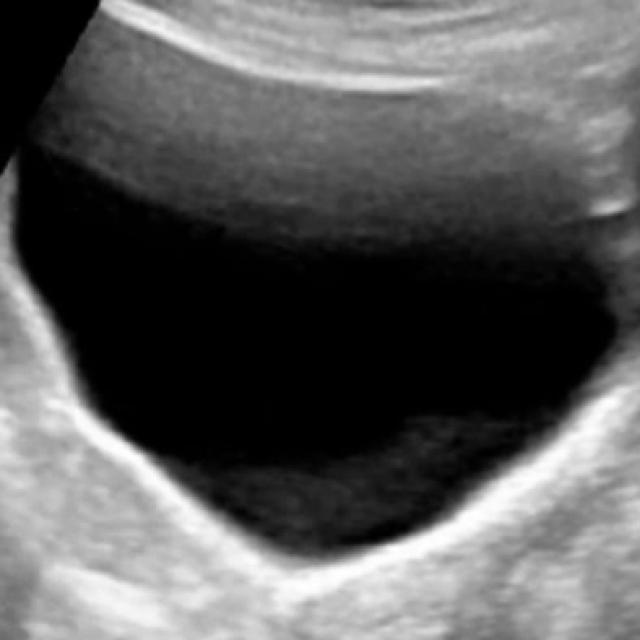bladder: (1, 5, 636, 625)
